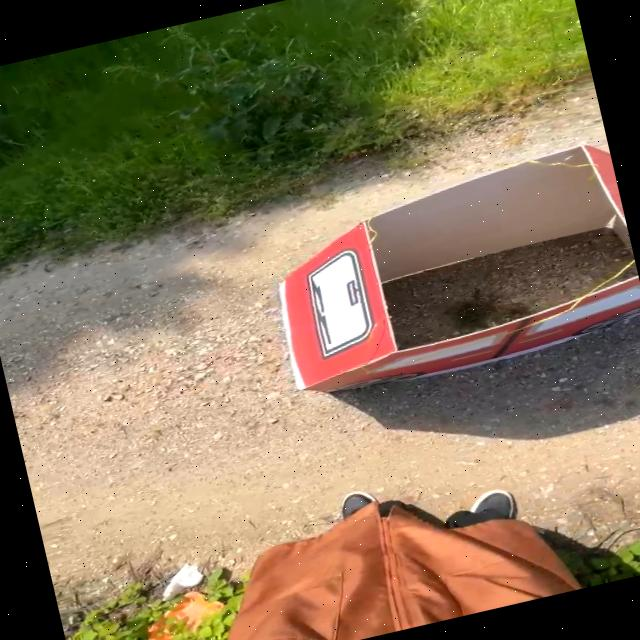red_car: (209, 120, 640, 443)
